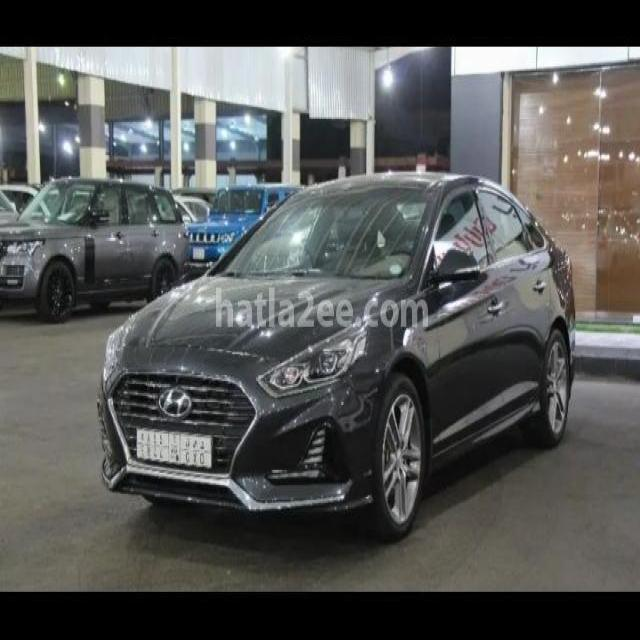license_plate: (128, 414, 218, 477), (0, 260, 21, 290), (187, 238, 208, 263)
